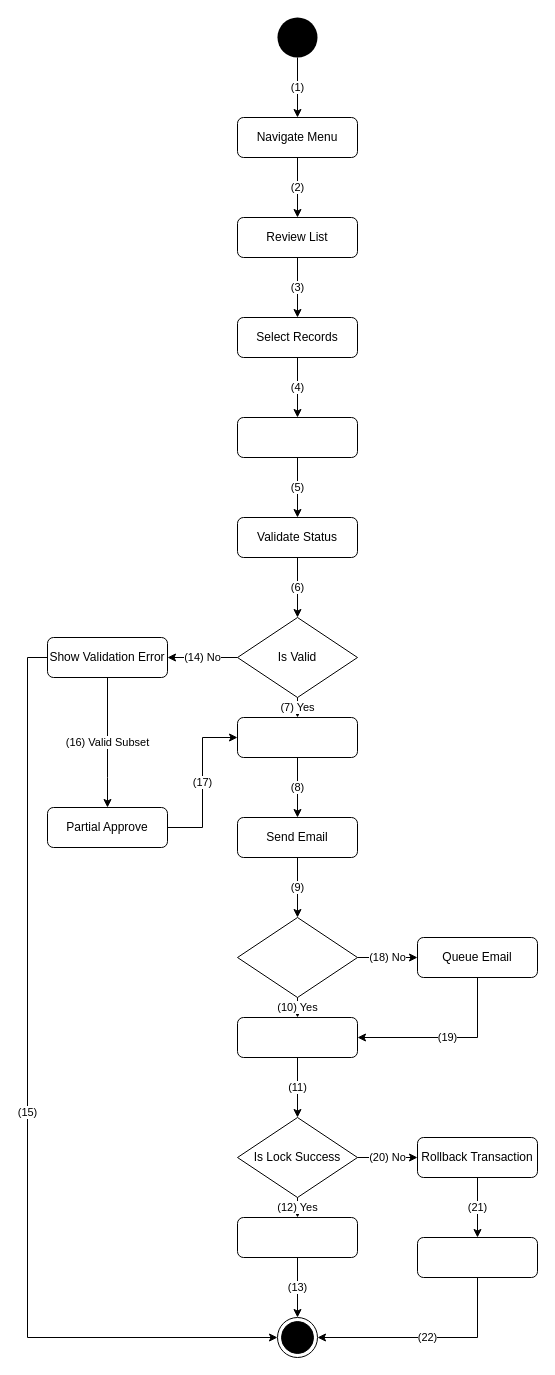
The diagram is 555 pixels wide and 1375 high, and some of its shapes have lost their labels. The box of each missing label's shape, as (x1, y1, x2, y2) in pixels:
Apply Lock: (236, 1016, 358, 1058)
Click Approve: (236, 416, 358, 458)
Is Email Success: (236, 916, 358, 998)
Show Critical Error: (416, 1236, 538, 1278)
Show Success: (236, 1216, 358, 1258)
Update Status: (236, 716, 358, 758)
